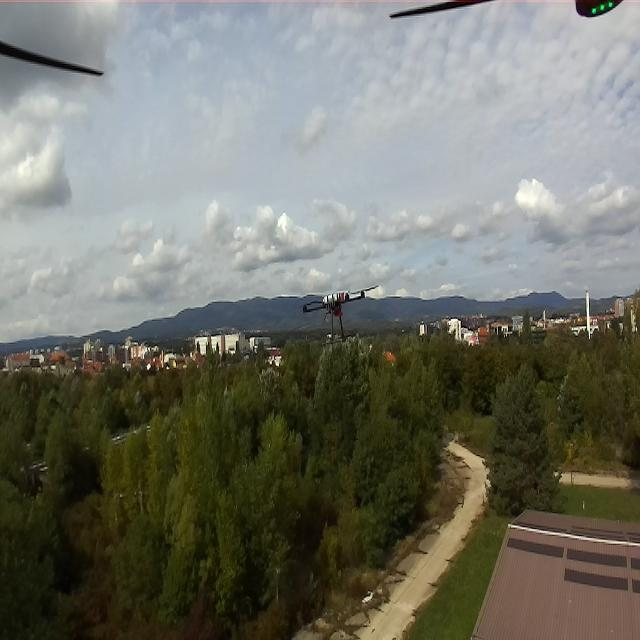UAV: (299, 280, 381, 349)
